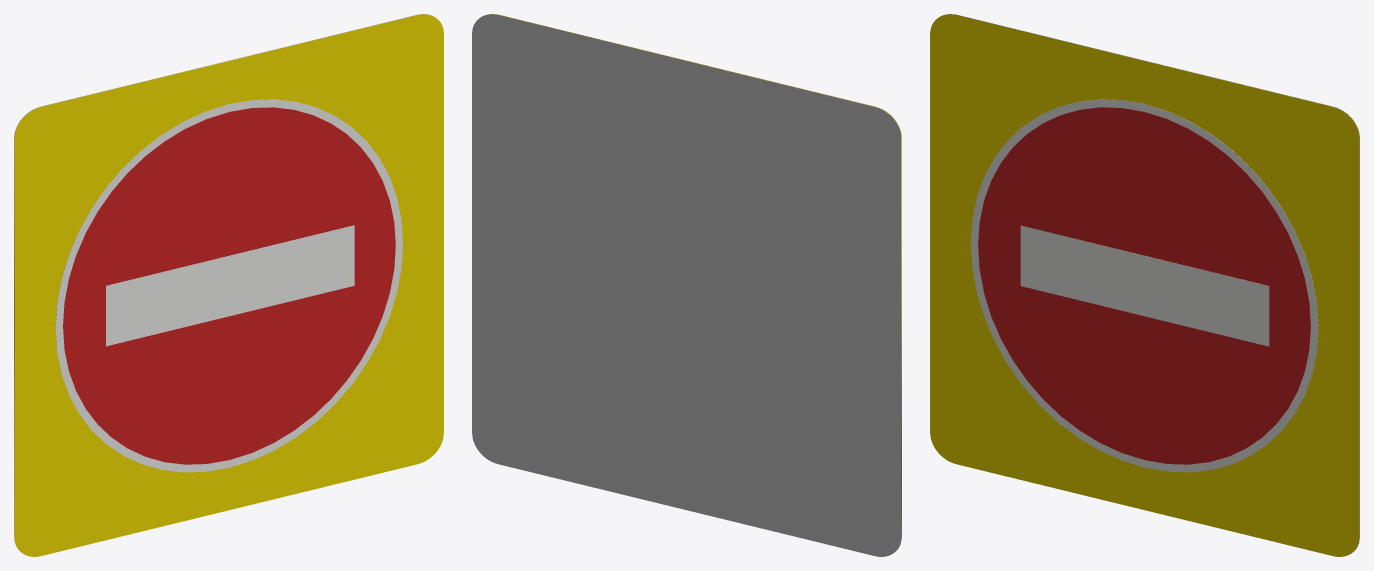
3 renders of one model, left to right at view 1: azimuth 30°, elevation 25°; view 2: azimuth 150°, elevation 25°; view 3: azimuth 330°, elevation 25°, orthographic.
Parts seen in each view (by area): view 1: B1j_p00, B1j_p02, B1j_p03, B1j_p01, B1j_dos; view 2: B1j_dos, B1j_p00; view 3: B1j_p00, B1j_p02, B1j_p03, B1j_p01, B1j_dos.
Boxes of the visible parts, <box> form: B1j_p00: <box>14,14,443,556</box>; B1j_p02: <box>63,107,395,464</box>; B1j_p03: <box>106,225,354,346</box>; B1j_p01: <box>55,99,402,472</box>; B1j_dos: <box>14,14,430,548</box>; B1j_dos: <box>472,14,901,556</box>; B1j_p00: <box>485,14,901,548</box>; B1j_p00: <box>930,14,1359,556</box>; B1j_p02: <box>978,107,1310,464</box>; B1j_p03: <box>1020,225,1269,346</box>; B1j_p01: <box>971,99,1318,472</box>; B1j_dos: <box>943,14,1359,549</box>.
Size of the model in its own units: 0.85 by 0.8496 by 0.0031.
